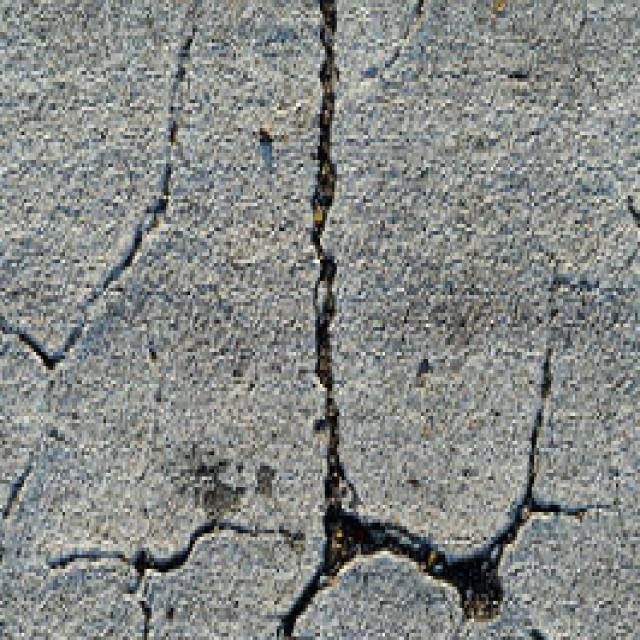branched cracks: (0, 26, 196, 369), (46, 500, 291, 639), (0, 428, 63, 528)
